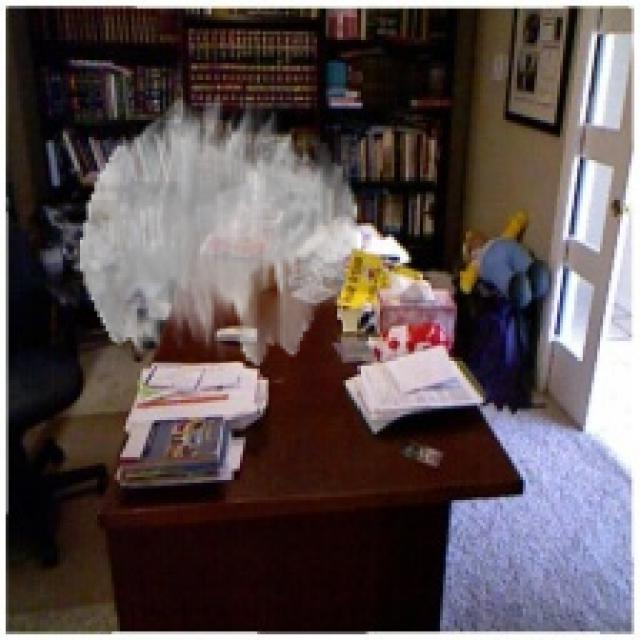smoke: (80, 94, 357, 366)
